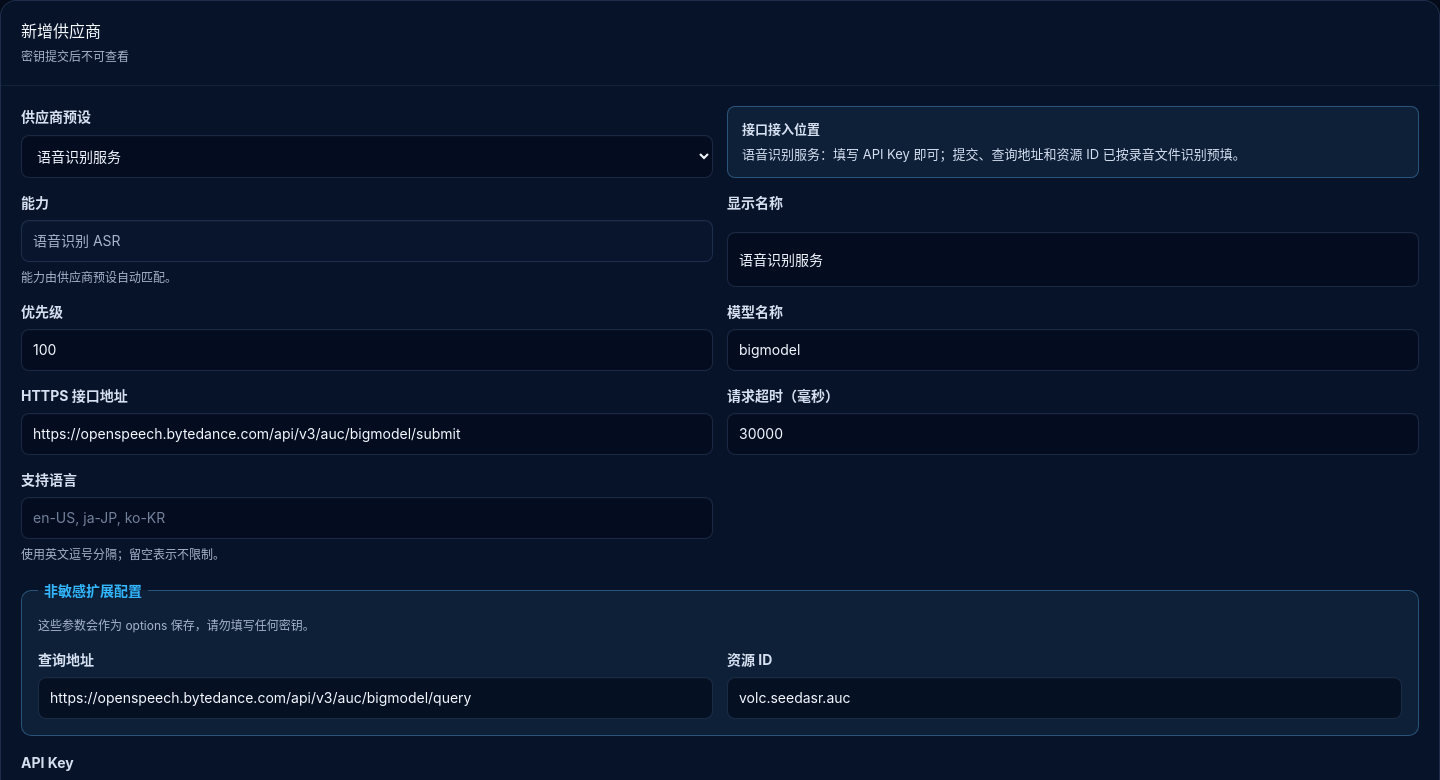
Test: ProviderEditor › prefills the official Ark vision subtitle OCR fields
The image size is (1440, 780).
Select "字幕识别服务" in the dropdown labelled "供应商预设" at (367, 156), box x1=21 y1=135 x2=713 y2=178
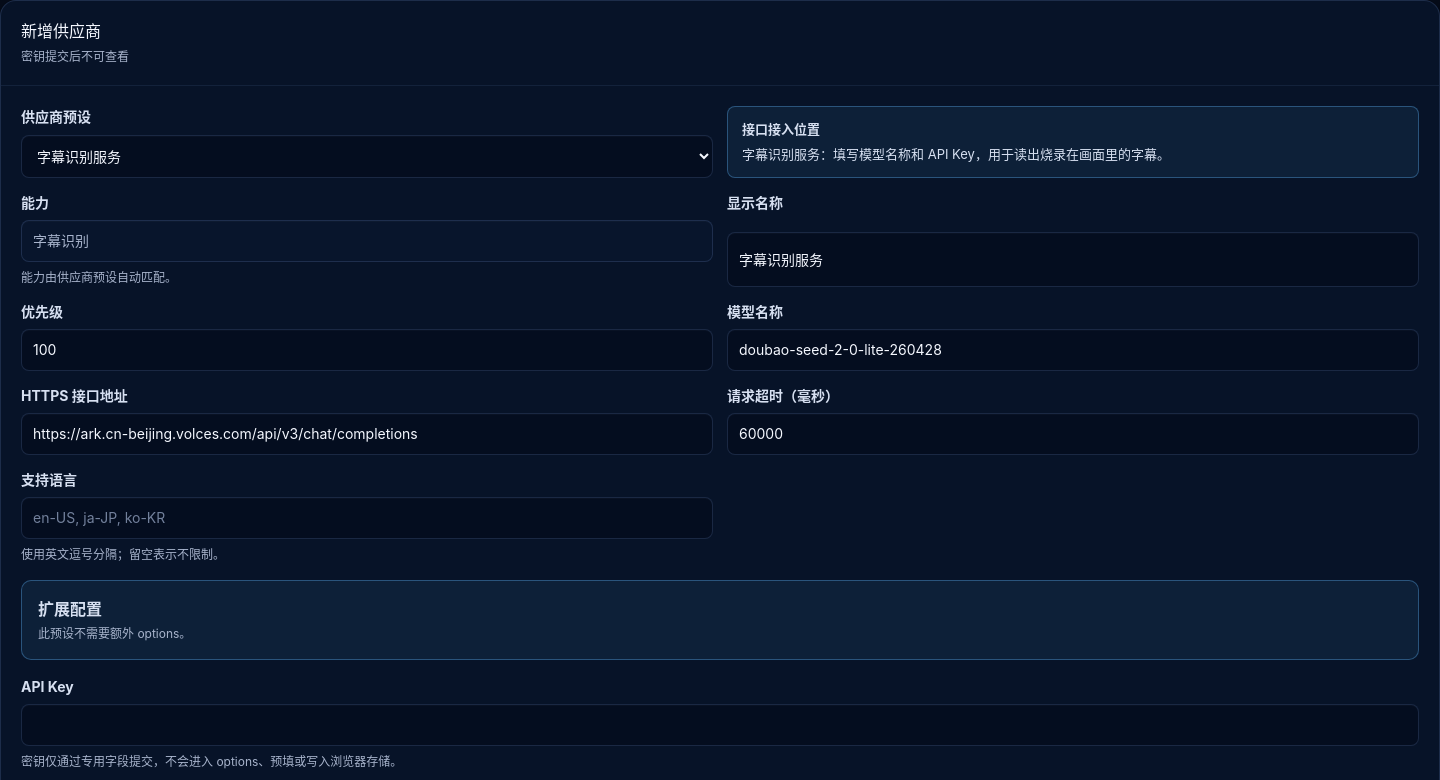
Check: the field labelled "模型名称" holds "doubao-seed-2-0-lite-260428", box x1=727 y1=329 x2=1419 y2=371
Check: the field labelled "HTTPS 接口地址" holds "https://ark.cn-beijing.volces.com/api/v3/chat/completions", box x1=21 y1=413 x2=713 y2=455
Check: the number field labelled "请求超时（毫秒）" holds "60000", box x1=727 y1=413 x2=1419 y2=455
